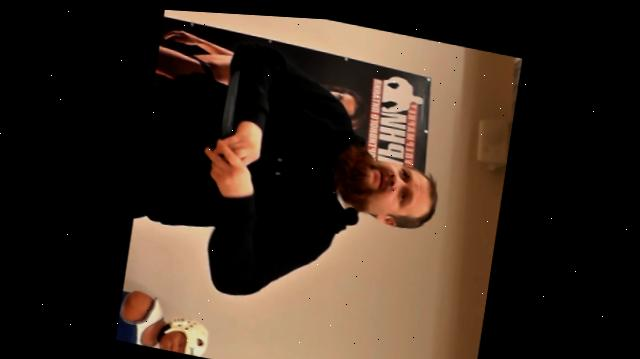pocket-knife: (209, 61, 246, 170)
